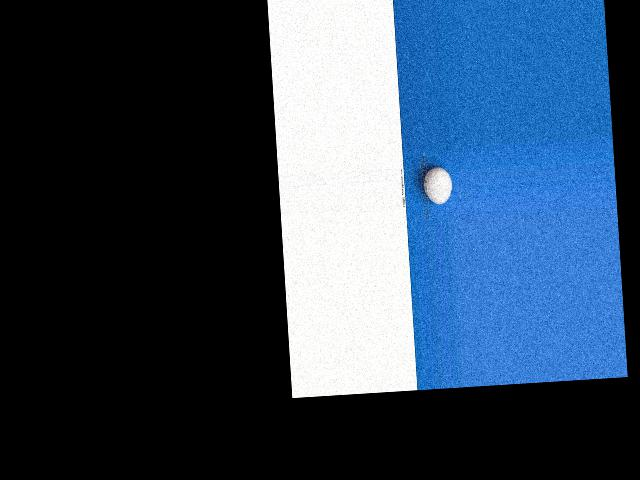egg: (421, 166, 452, 204)
